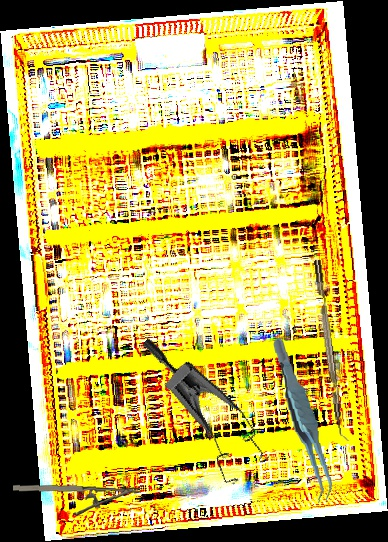Chopper: (313, 258, 353, 443)
Needle Holder: (11, 481, 142, 519)
Speculum: (104, 335, 290, 496)
Tissue Forceps: (271, 334, 335, 507)
